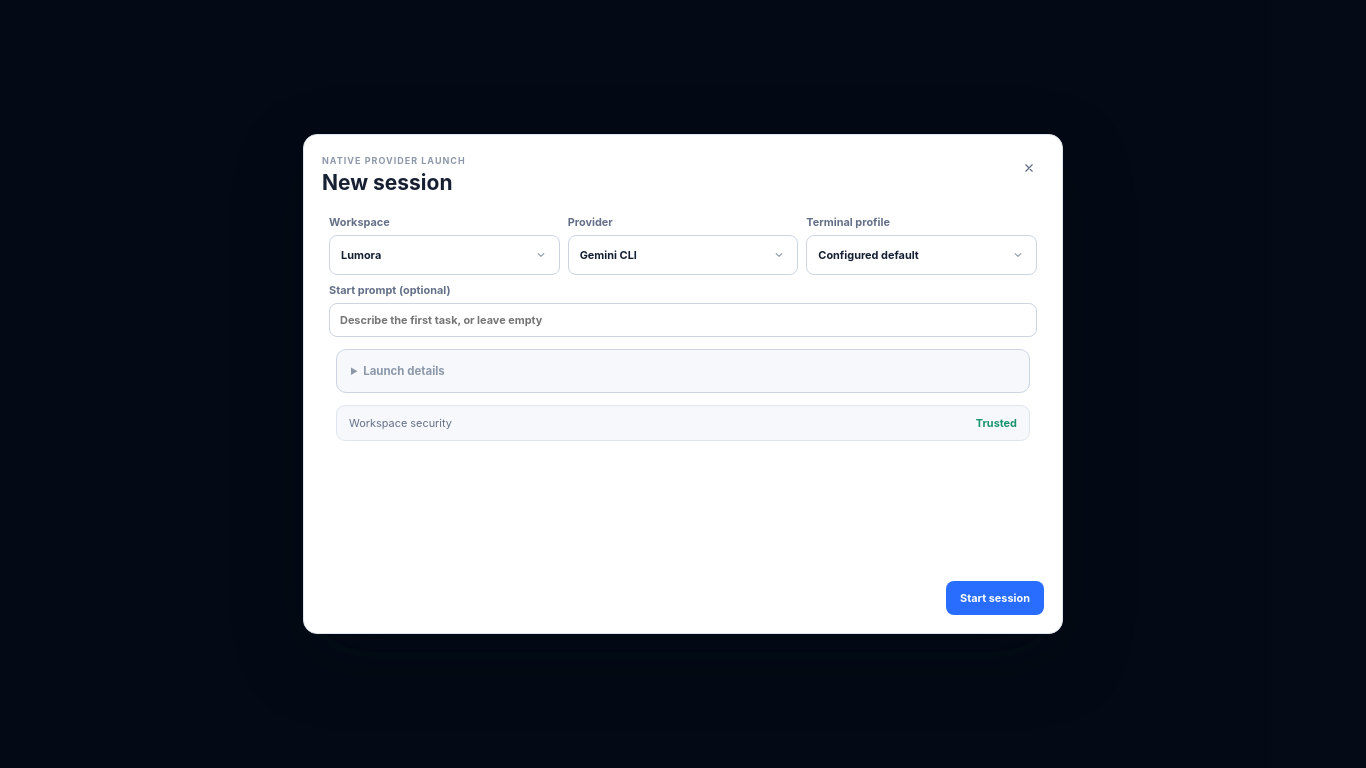
Test: NewSessionDialog › prepares a new session for a wider registered provider
The image size is (1366, 768).
Click the button with aria-label "Provider" at coordinates (683, 255), box [568, 235, 798, 275]
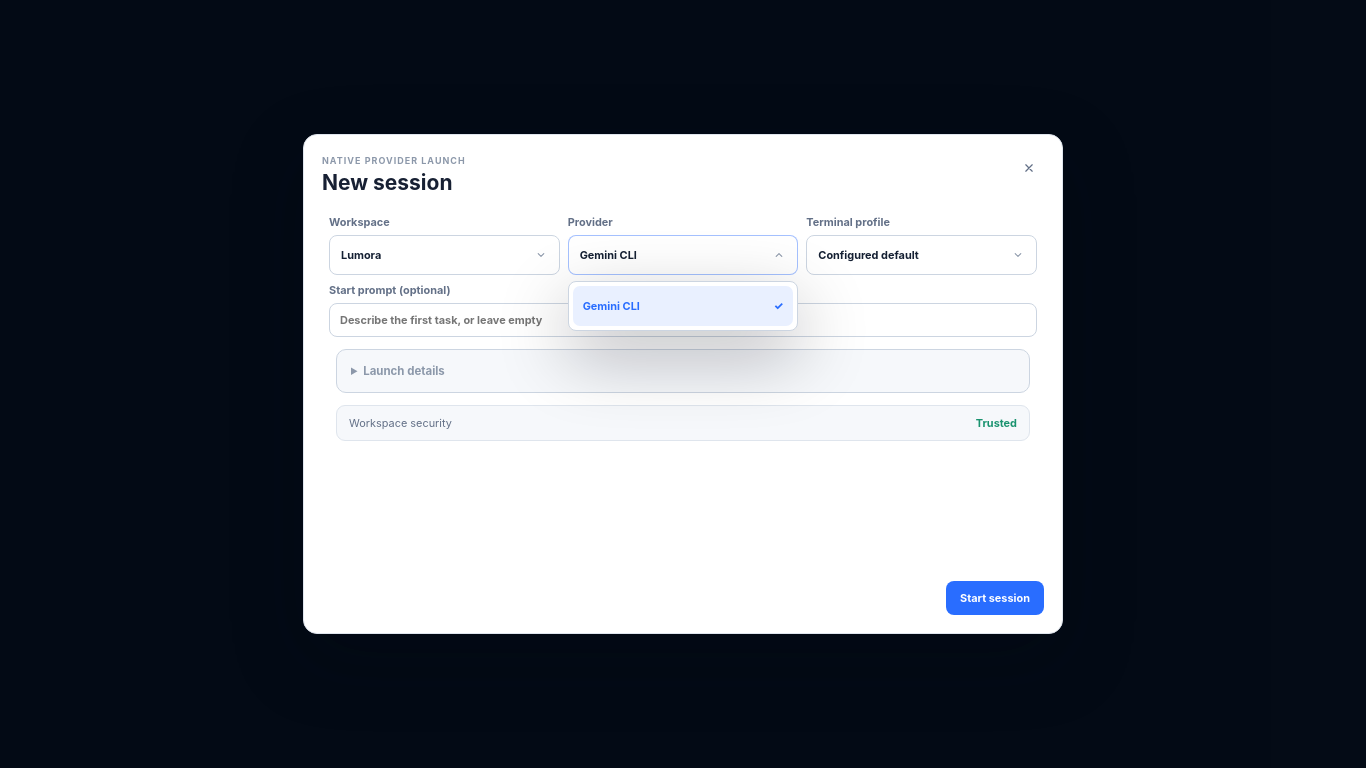
Now the option "Gemini CLI ✓" is shown, box [573, 286, 793, 326]
